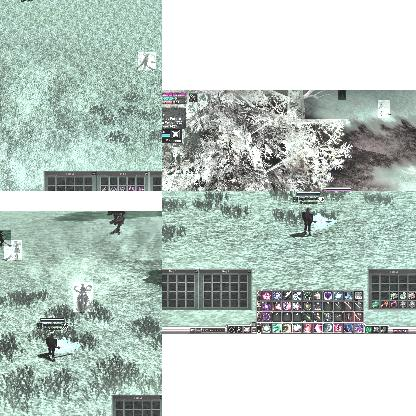caliana: (73, 282, 93, 312), (4, 240, 22, 260), (138, 52, 156, 70), (378, 100, 390, 118), (0, 230, 11, 246), (338, 90, 346, 100)
